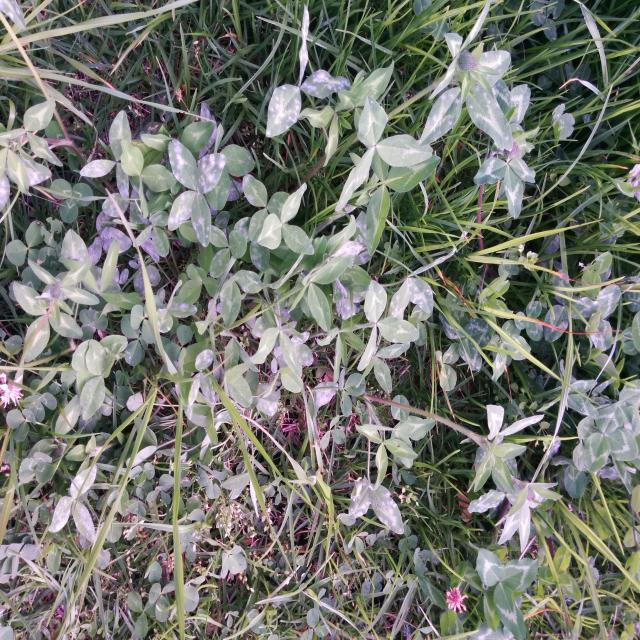Four Leaf Clover: (168, 139, 225, 247)
